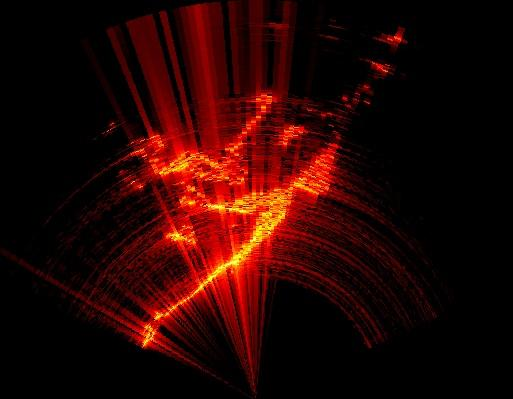shipwreck: (143, 137, 339, 346), (154, 93, 273, 186), (167, 224, 196, 248), (278, 125, 307, 148)
